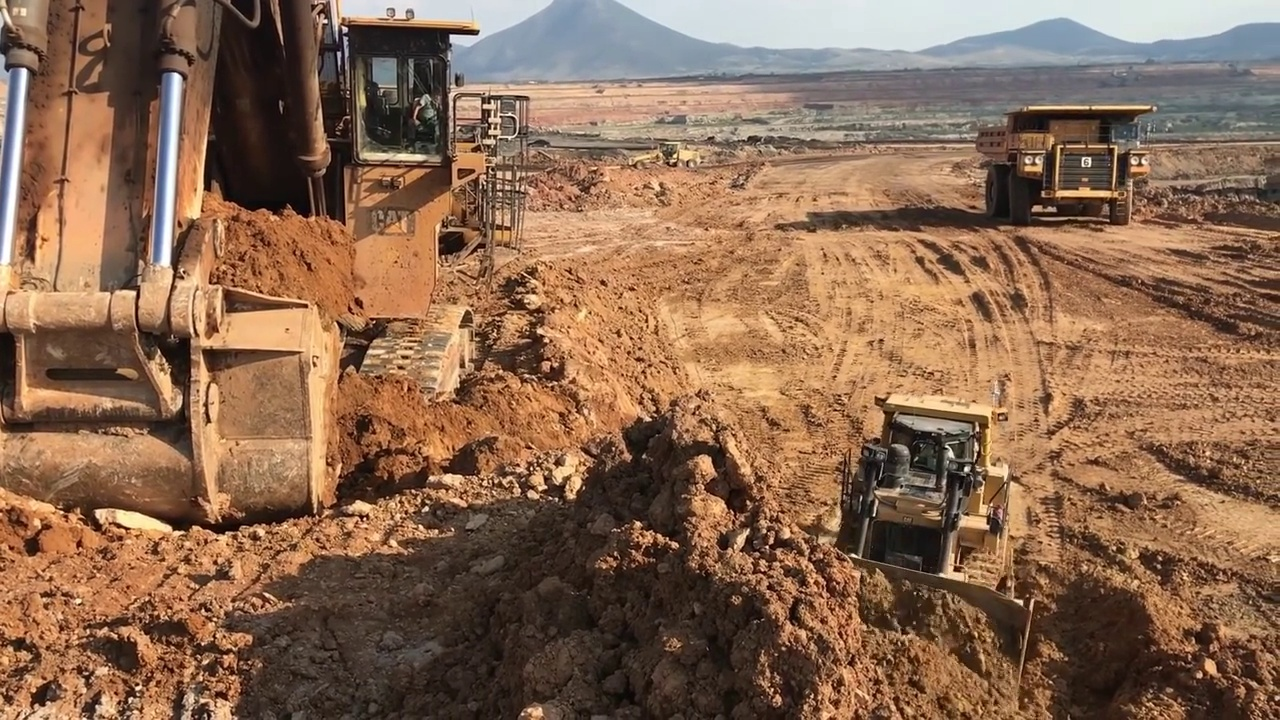bulldozer: (818, 388, 1037, 705)
dumper: (976, 105, 1159, 221)
excavator: (2, 4, 530, 510)
